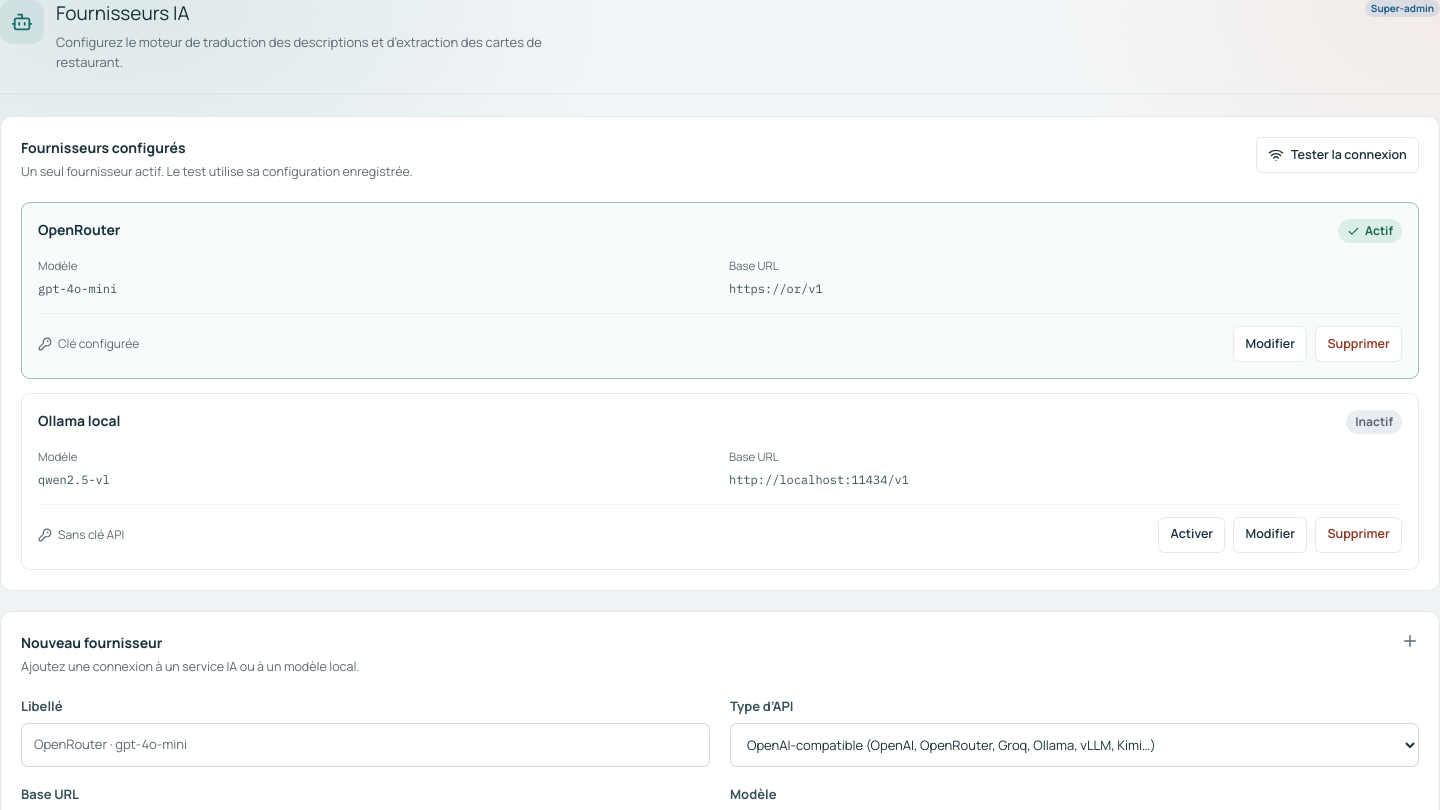
Scenario: AiProviderSettings › loads a provider into the form for editing (key stays blank)
Expected: the heading "OpenRouter" is shown, x1=38 y1=219 x2=120 y2=240
Step 1. Click the button "Modifier" in the row of "Clé configurée" → (1270, 344), box x1=1233 y1=326 x2=1307 y2=362
(page scrolled)
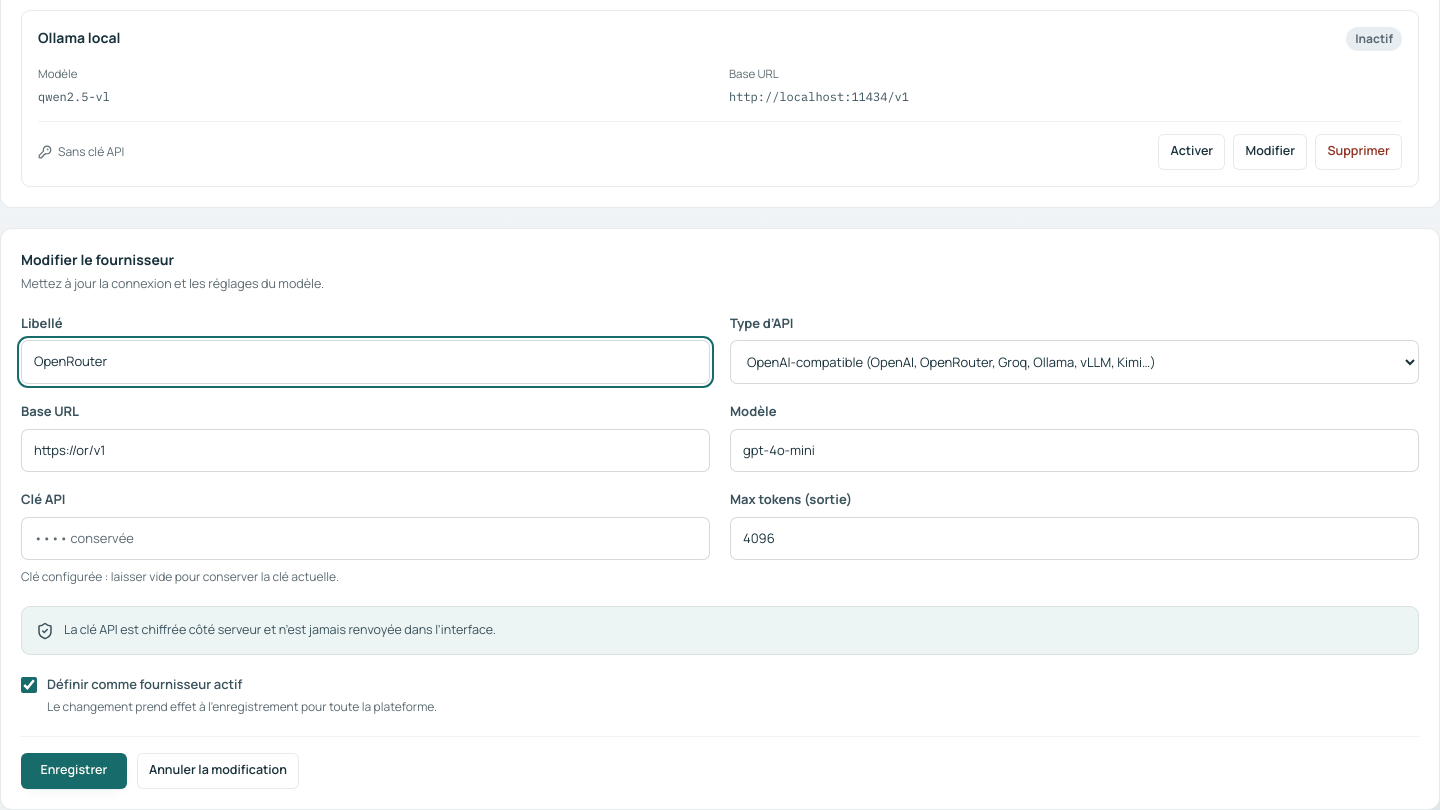
Expected: the password field labelled "Clé API" is empty, x1=21 y1=517 x2=710 y2=560
Now the field labelled "Libellé" holds "OpenRouter", box x1=21 y1=340 x2=710 y2=384
Now the text "laisser vide pour conserver" is shown, box x1=21 y1=568 x2=339 y2=585
